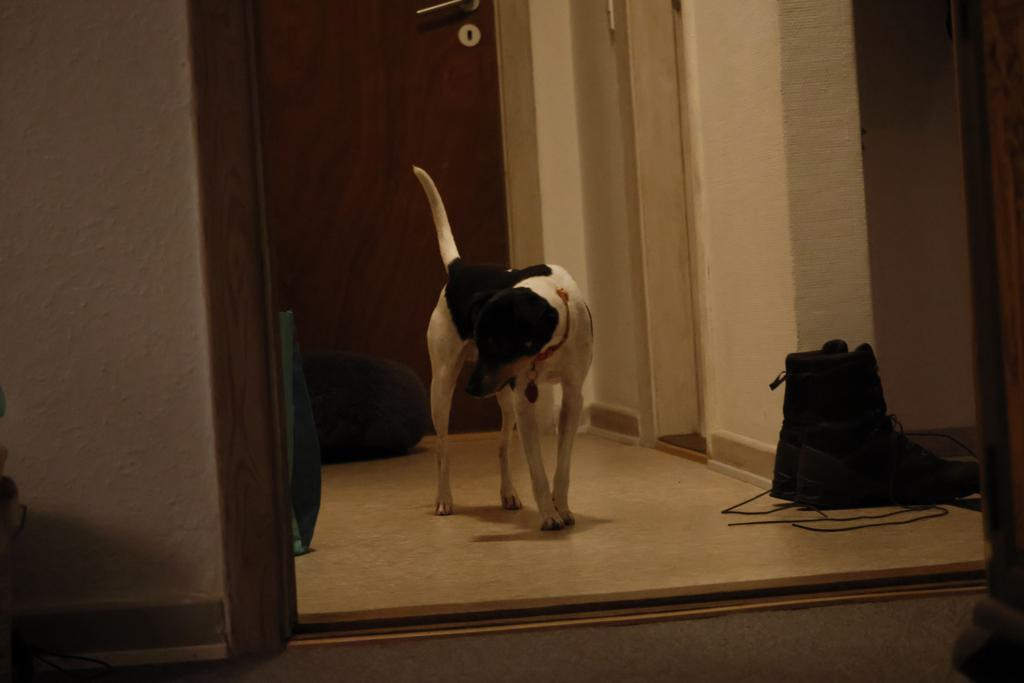Dog: (389, 146, 609, 548)
